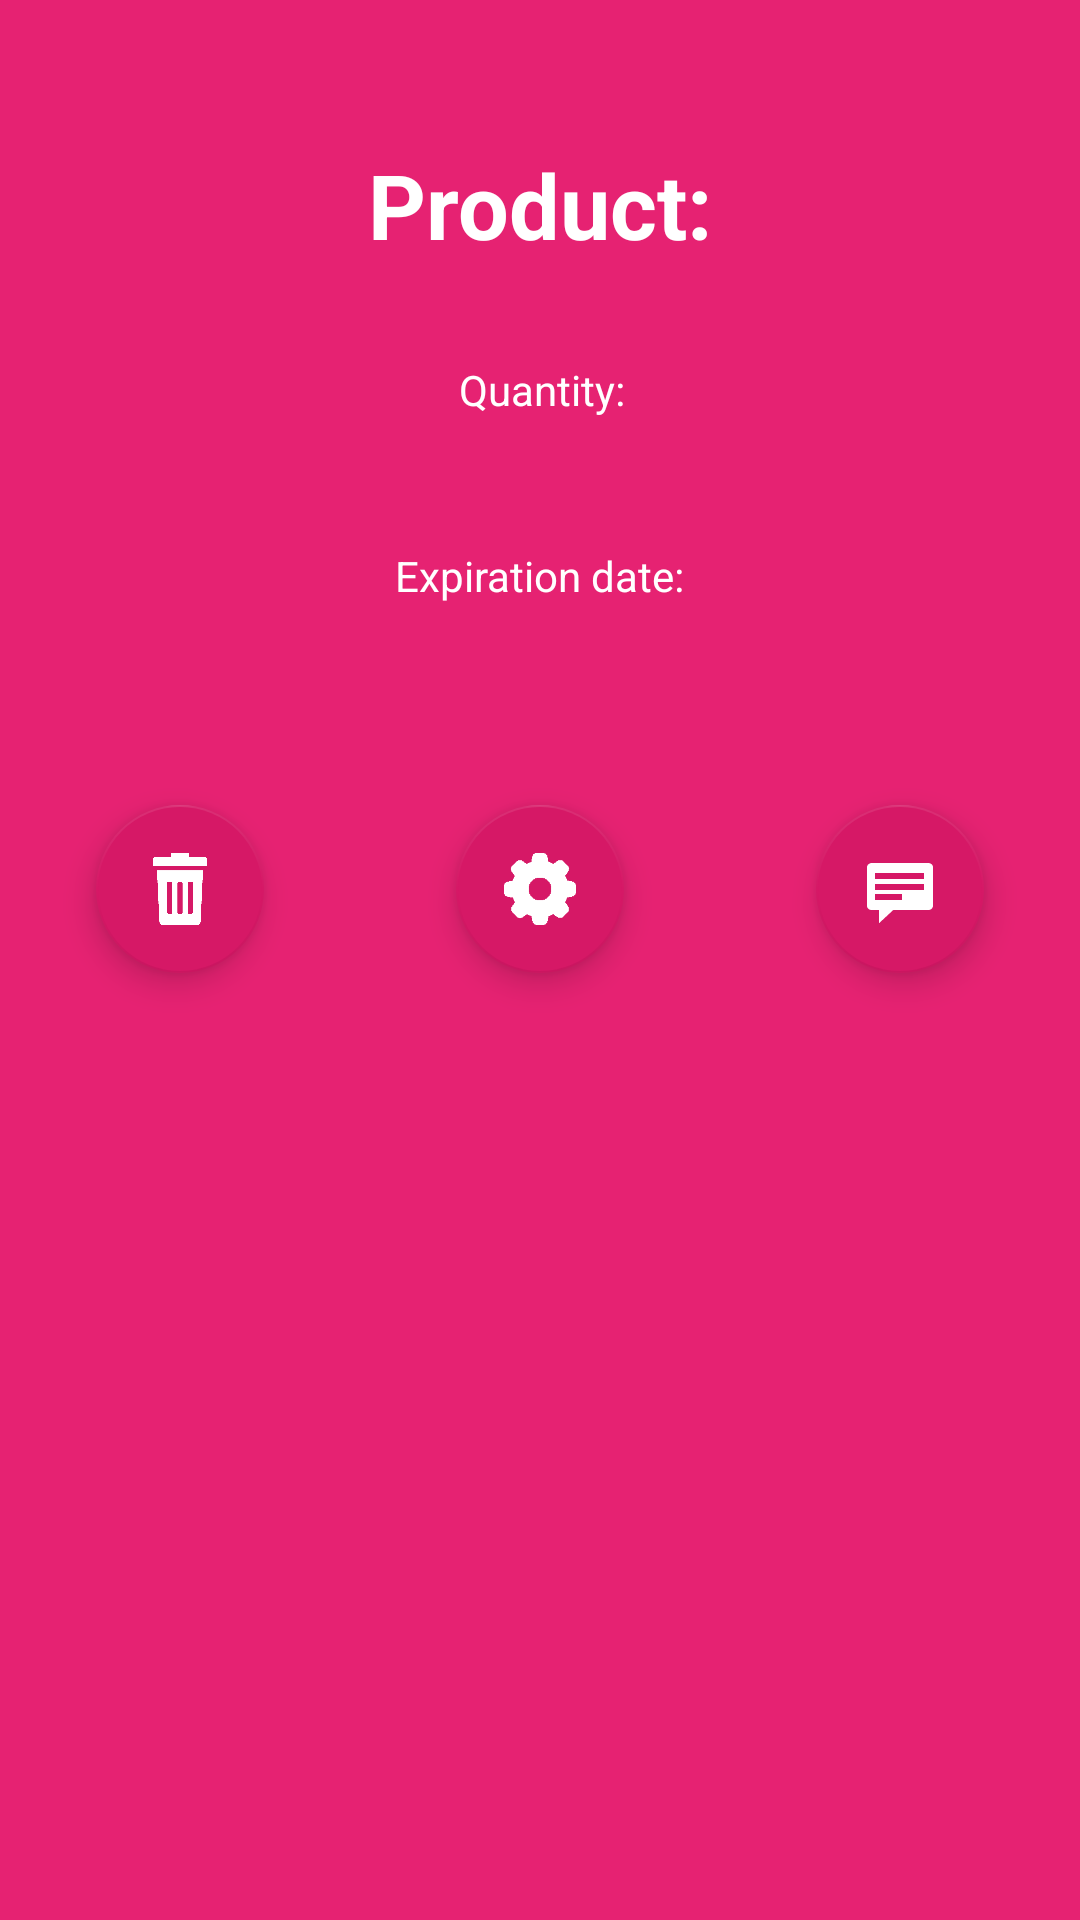

Where icons sit on this 1080×1920 app screen, as [x1=x1, y1=y1, x2=x2, y2=y2]:
chat: [x1=816, y1=805, x2=984, y2=973]
settings: [x1=456, y1=805, x2=624, y2=973]
trashcan: [x1=96, y1=805, x2=264, y2=973]
